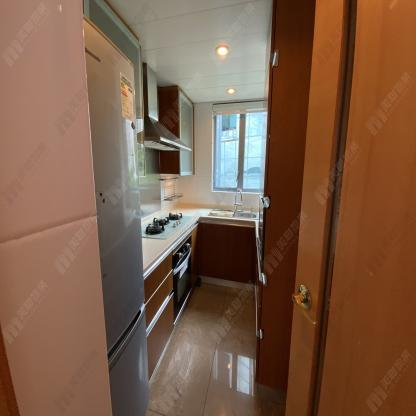Cupboard: (144, 251, 174, 381)
Exhaust Hood: (142, 62, 192, 152)
Faucet: (232, 187, 242, 211)
Fridge: (84, 16, 149, 416)
Oven: (169, 234, 194, 323)
Sink: (209, 209, 257, 219)
Stove: (143, 211, 194, 241)
